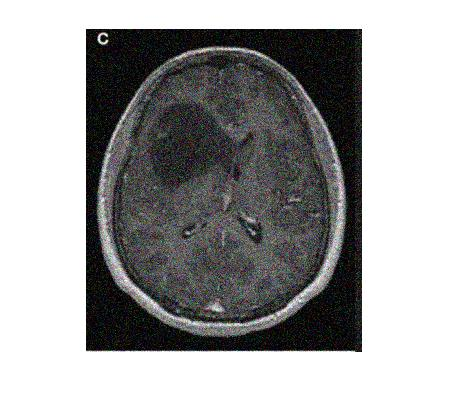Brain_Cancer: (153, 110, 224, 189)
